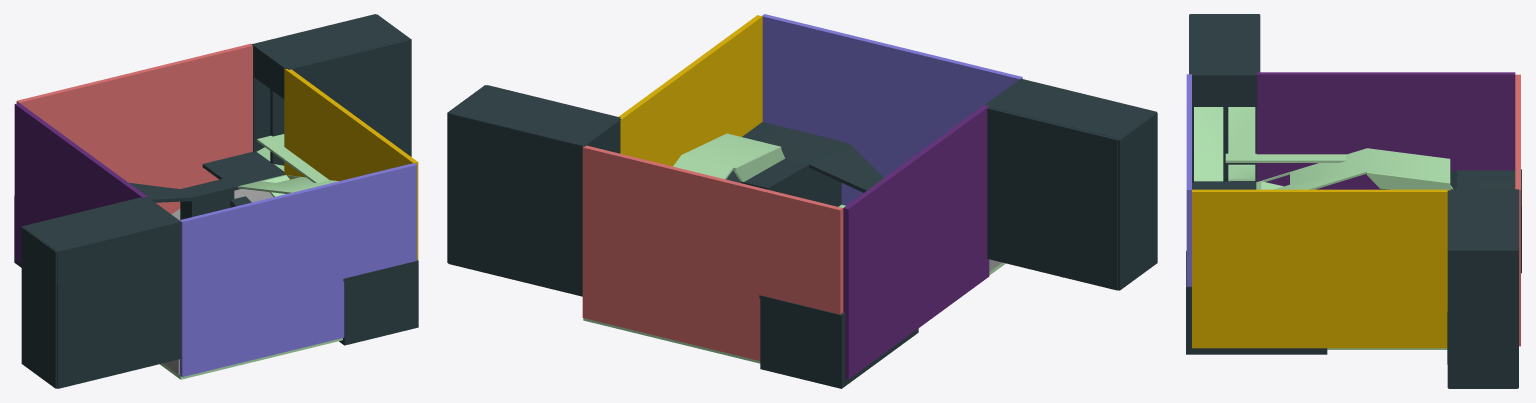
The model's file is Map.fbx.
3 views of the same model, side by side, from view 1: azimuth 30°, elevation 25°; view 2: azimuth 150°, elevation 25°; view 3: azimuth 270°, elevation 25° (orthographic). The views are drawn at different scales.
Parts seen in each view (by area): view 1: BlueWall, RedWall, pCube16 (×2), pCube23 (×2), PurpleWall, YellowWall, pCube17, pCube25, pCube22, pCube8, pCube20, pCube13 (+3 smaller); view 2: RedWall, PurpleWall, BlueWall, pCube16, pCube17, YellowWall, pCube23 (×2), pCube8, pCube25, pCube22, pCube13, Floor1; view 3: YellowWall, PurpleWall, pCube23 (×2), pCube22, pCube24, pCube20, pCube25, pCube8, BlueWall, RedWall, pCube17 (×2), pCube14 (+2 smaller).
Part boxes in pixels (box(x1,y1,x2,y2)): BlueWall: box(179, 163, 416, 376); RedWall: box(16, 43, 252, 214); pCube16 (×2): box(57, 44, 270, 388); pCube23 (×2): box(24, 14, 408, 283); PurpleWall: box(14, 103, 147, 263); YellowWall: box(284, 68, 418, 259); pCube17: box(287, 39, 410, 155); pCube25: box(339, 260, 418, 345); pCube22: box(21, 226, 57, 388); pCube8: box(14, 152, 284, 267); pCube20: box(256, 134, 328, 182); pCube13: box(237, 175, 338, 196); RedWall: box(582, 145, 843, 360); PurpleWall: box(843, 105, 989, 379); BlueWall: box(762, 14, 1022, 205); pCube16: box(448, 113, 587, 296); pCube17: box(987, 107, 1118, 290); YellowWall: box(618, 15, 762, 166); pCube23 (×2): box(448, 78, 1156, 153); pCube8: box(759, 295, 918, 388); pCube25: box(726, 122, 883, 206); pCube22: box(1118, 112, 1157, 290); pCube13: box(673, 133, 785, 181); Floor1: box(583, 204, 1005, 363); YellowWall: box(1192, 189, 1450, 348); PurpleWall: box(1256, 72, 1515, 189); pCube23 (×2): box(1189, 14, 1518, 281); pCube22: box(1448, 250, 1517, 388); pCube24: box(1256, 148, 1453, 189); pCube20: box(1194, 107, 1346, 181); pCube25: box(1186, 181, 1327, 354); pCube8: box(1380, 169, 1521, 273); BlueWall: box(1186, 74, 1191, 286); RedWall: box(1515, 74, 1520, 346); pCube17 (×2): box(1255, 14, 1450, 387); pCube14: box(1228, 164, 1255, 181).
Bounding box in the file's own units: 10.28 × 3.33 × 6.13.
